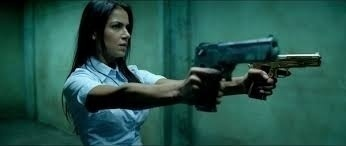pistol: (189, 34, 282, 94), (265, 45, 323, 83)
